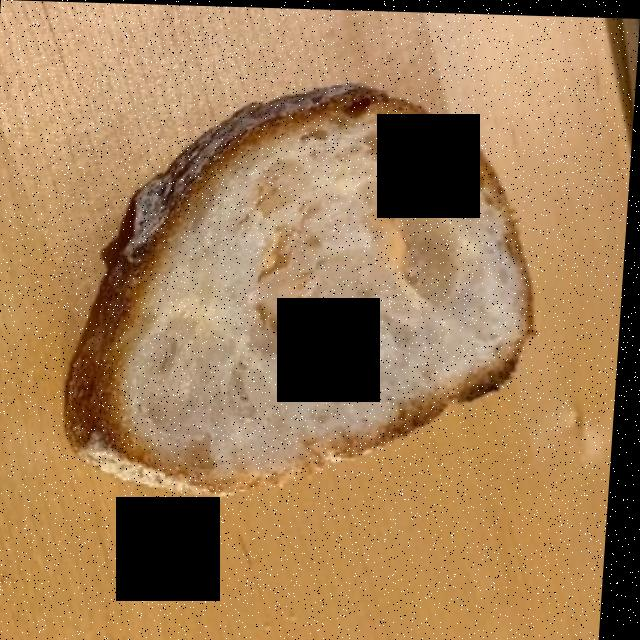bread-white: (74, 87, 534, 488)
